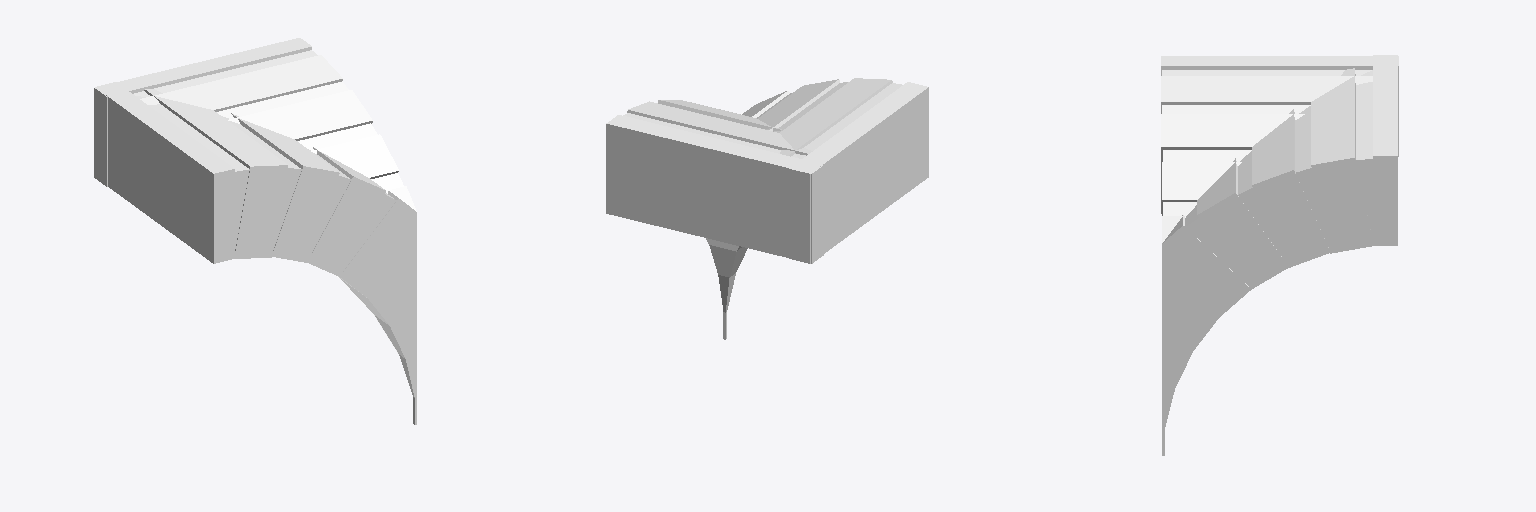
Rendered from mt_arch_outer.obj.
3 views of the same model, side by side, from view 1: azimuth 30°, elevation 25°; view 2: azimuth 150°, elevation 25°; view 3: azimuth 270°, elevation 25° (orthographic).
Visible parts, largest first — view 1: cube.008, cube.009, cube.010, cube.024, cube.017, cube.011, cube.025, cube.012, cube.013, cube.026, cube, cube.019 (+6 smaller); view 2: cube.017, cube.008, cube.009, cube.024, cube.010, cube, cube.025, cube.018, cube.029; view 3: cube.024, cube.025, cube.009, cube.026, cube.017, cube.010, cube.027, cube.008, cube.028, cube.011, cube.018, cube.019 (+6 smaller).
Part boxes in pixels (left/top/right/bottom): cube.008: left=96, top=82, right=234, bottom=263; cube.009: left=144, top=89, right=287, bottom=258; cube.010: left=231, top=113, right=339, bottom=262; cube.024: left=140, top=55, right=342, bottom=111; cube.017: left=94, top=38, right=311, bottom=186; cube.011: left=308, top=147, right=385, bottom=276; cube.025: left=228, top=90, right=372, bottom=140; cube.012: left=338, top=191, right=416, bottom=297; cube.013: left=341, top=250, right=416, bottom=325; cube.026: left=311, top=134, right=398, bottom=178; cube: left=136, top=96, right=249, bottom=248; cube.019: left=217, top=81, right=348, bottom=118; cube.017: left=606, top=115, right=823, bottom=263; cube.008: left=789, top=82, right=928, bottom=263; cube.009: left=780, top=78, right=892, bottom=156; cube.024: left=627, top=101, right=812, bottom=155; cube.010: left=758, top=79, right=839, bottom=130; cube: left=796, top=83, right=902, bottom=158; cube.025: left=658, top=100, right=781, bottom=131; cube.018: left=623, top=113, right=797, bottom=157; cube.029: left=709, top=245, right=735, bottom=277; cube.024: left=1311, top=68, right=1372, bottom=253; cube.025: left=1252, top=109, right=1329, bottom=267; cube.009: left=1161, top=76, right=1372, bottom=113; cube.026: left=1197, top=158, right=1287, bottom=289; cube.017: left=1373, top=55, right=1397, bottom=245; cube.010: left=1161, top=114, right=1304, bottom=213; cube.027: left=1162, top=215, right=1250, bottom=317; cube.008: left=1161, top=56, right=1398, bottom=156; cube.028: left=1162, top=282, right=1218, bottom=350; cube.011: left=1162, top=162, right=1241, bottom=215; cube.018: left=1356, top=70, right=1372, bottom=238; cube.019: left=1295, top=106, right=1328, bottom=246.
Size of the model in its own units: 1.02 by 1.42 by 1.02.